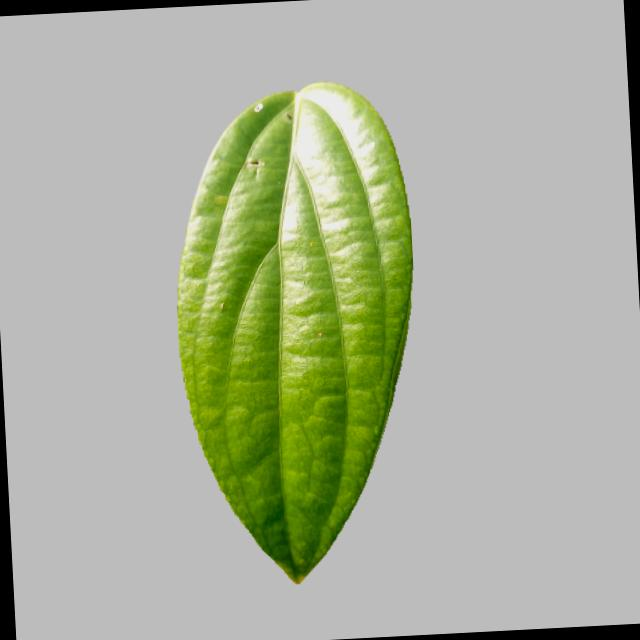healthy: (154, 76, 435, 592)
